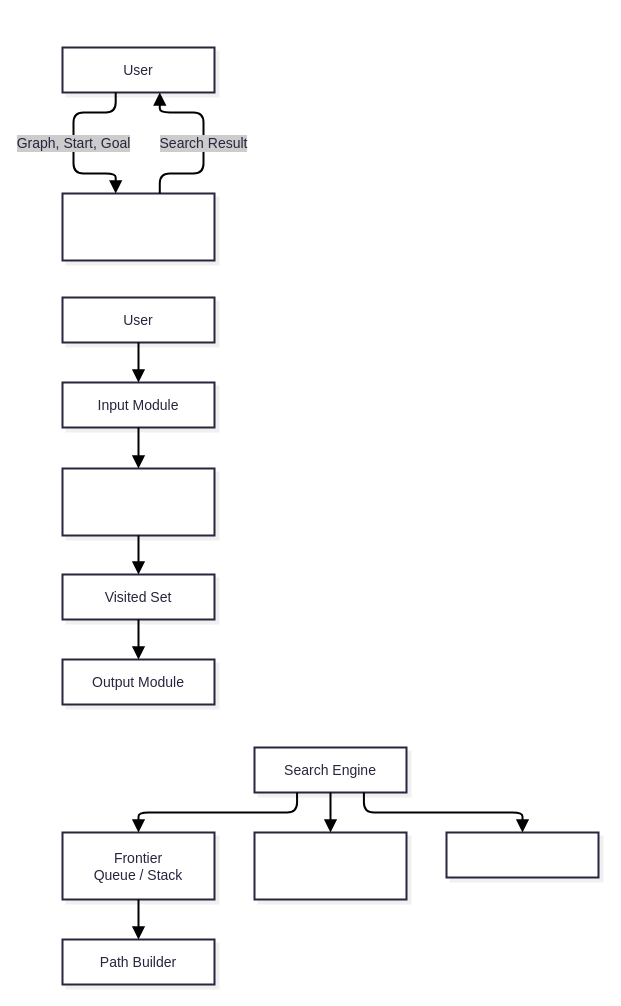
Image size: 621x1006. Some labels were removed from this diagram. The centre of each missing label's shape, as x and y in pixels:
"BFS & DFS Search System" goes at point (140, 228).
"Explored Set" goes at point (332, 867).
"Goal Test" goes at point (524, 856).
"Search Engine BFS / DFS" goes at point (140, 503).
